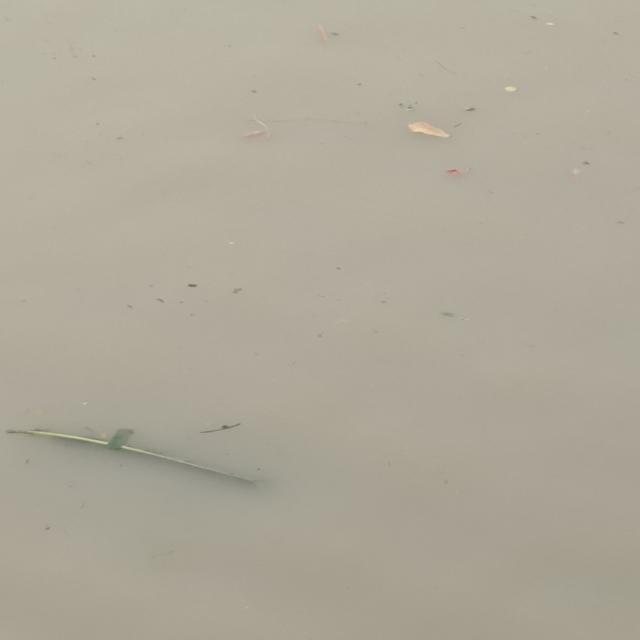Organic Debris: (0, 411, 281, 497), (391, 117, 466, 144), (238, 114, 277, 147)
Plastic: (441, 165, 475, 179), (501, 83, 524, 97), (569, 168, 582, 182), (546, 22, 554, 26)
